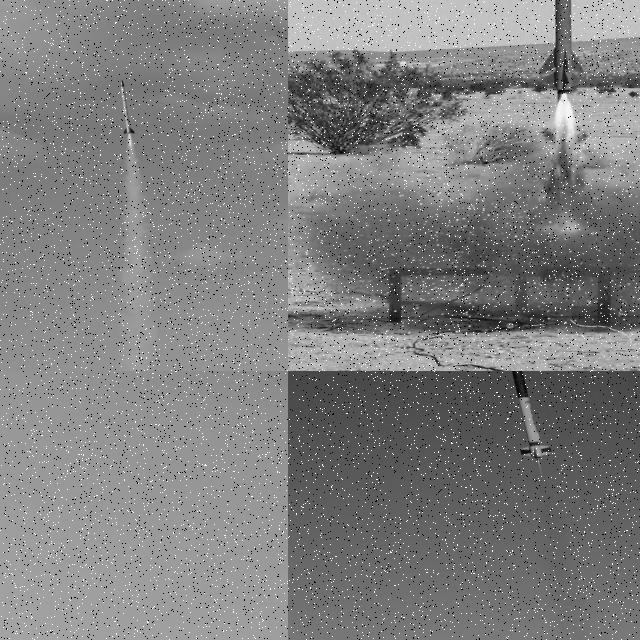Rocket: (502, 371, 558, 465), (536, 0, 586, 92), (121, 80, 135, 134)
